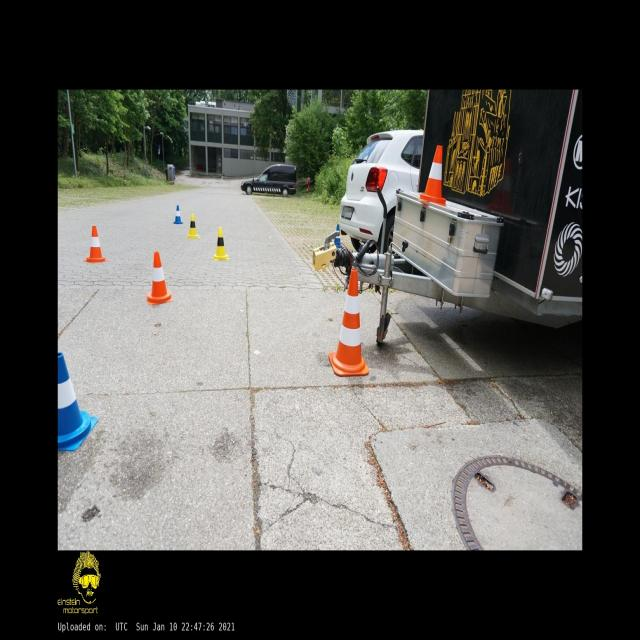blue_cone: (58, 352, 98, 451), (174, 205, 183, 224)
large_orange_cone: (328, 268, 369, 376)
orange_cone: (420, 145, 446, 205), (146, 252, 173, 304), (84, 226, 107, 262)
yellow_cone: (212, 227, 230, 261), (187, 213, 200, 238)
